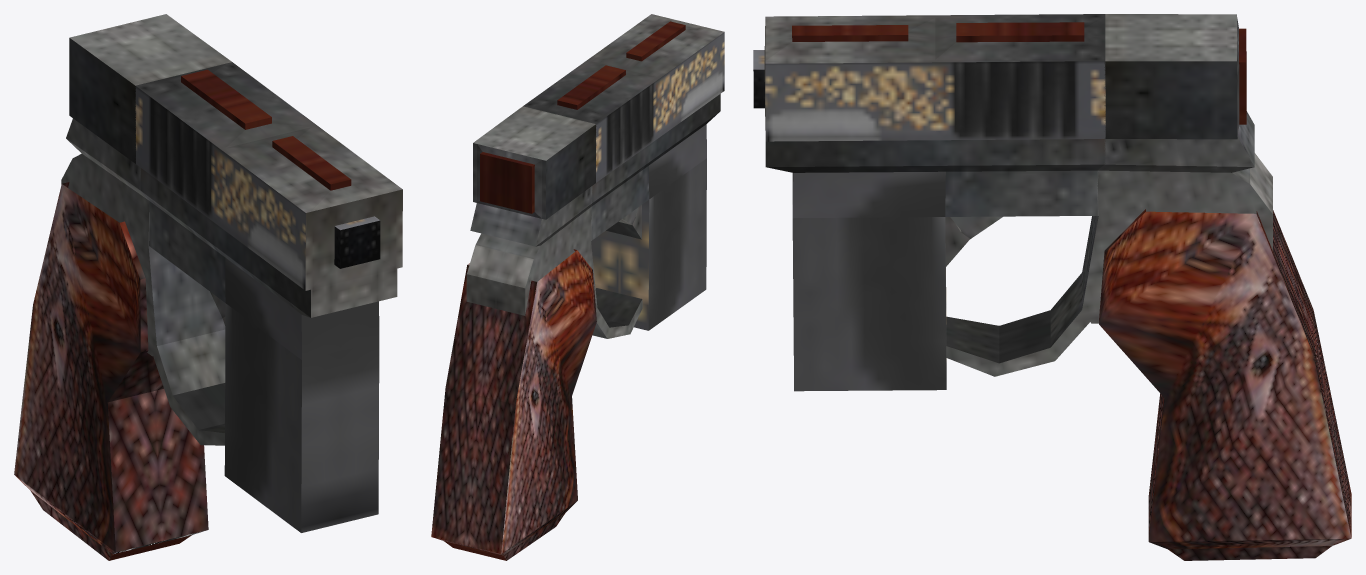
The model's file is realhandgun.gltf.
3 views of the same model, side by side, from view 1: azimuth 30°, elevation 25°; view 2: azimuth 150°, elevation 25°; view 3: azimuth 270°, elevation 25° (orthographic). The views are drawn at different scales.
Visible parts, largest first — view 1: Cube; view 2: Cube; view 3: Cube.
Part boxes in pixels (x1,y1,x2,y2): Cube: (14,14,402,560); Cube: (431,14,724,560); Cube: (753,14,1351,560).
Bounding box in the file's own units: 1.23 × 6.26 × 6.59.
1 material, 1 textured.
